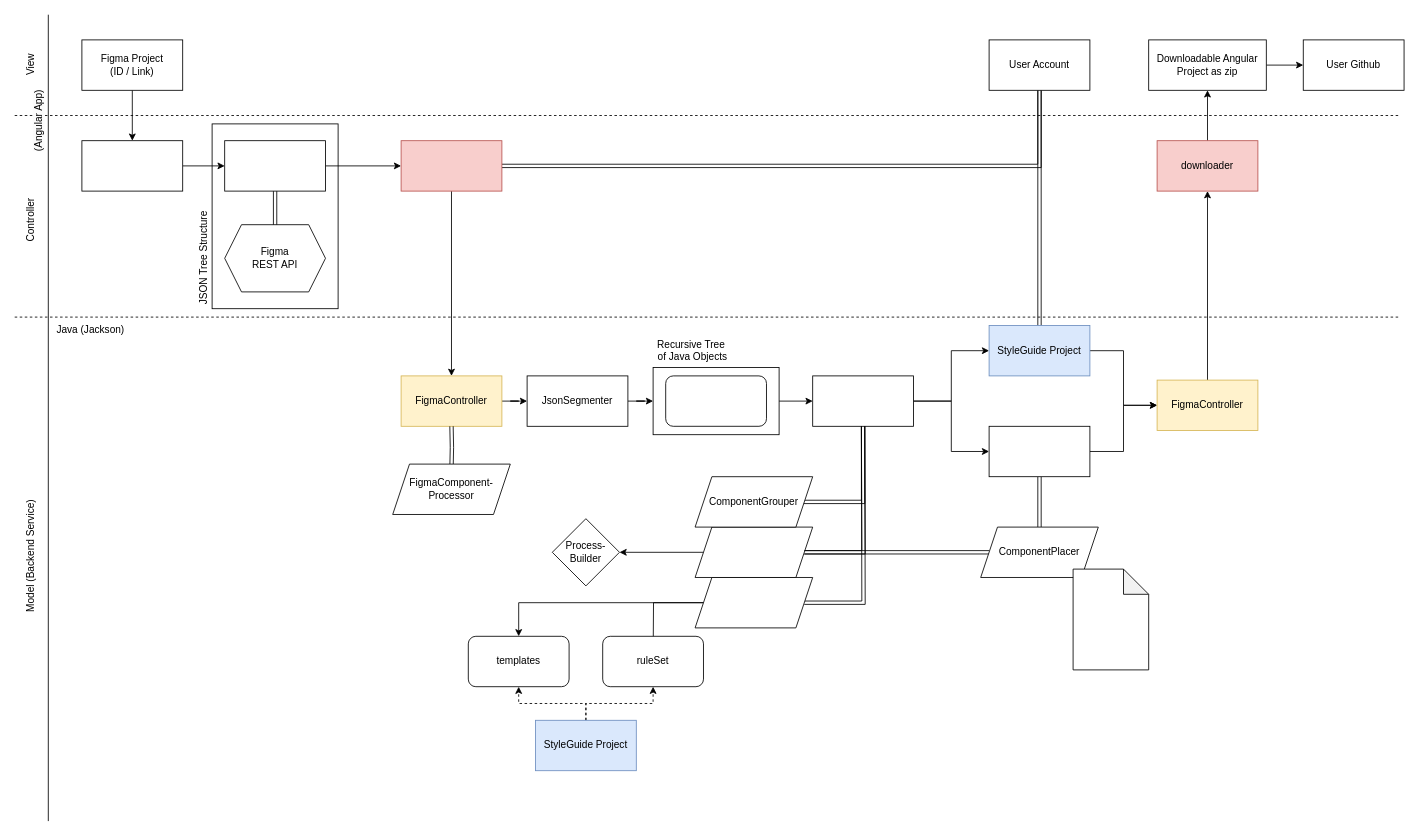
This 1419x837 diagram has some shape labels left out. Here are the shapes that lost their labels. From the top down, the box of each, then its label:
(81, 140, 183, 191): Figma Reader Component
(224, 140, 326, 191): Figma Reader Service
(400, 140, 502, 191): figma-reader
(665, 375, 766, 426): rootComponent
(812, 375, 914, 426): GenerationController
(988, 425, 1090, 477): ScreenGenerator
(694, 526, 813, 578): ComponentGenerator
(694, 577, 813, 628): ComponentFiller
(1072, 568, 1149, 670): How can we group components?
